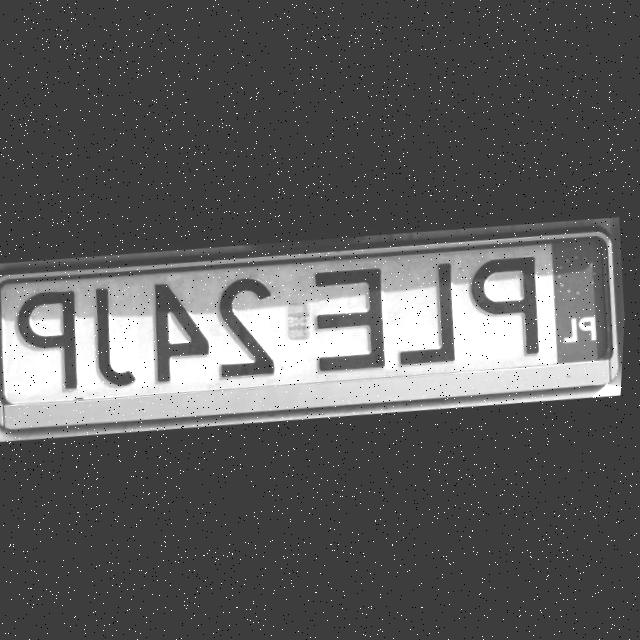license-plates: (0, 239, 608, 403)
